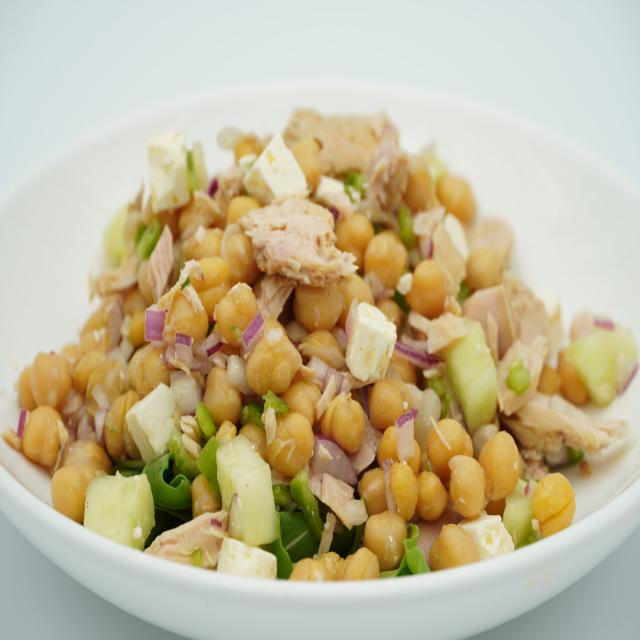garbanzos: (53, 86, 591, 546)
